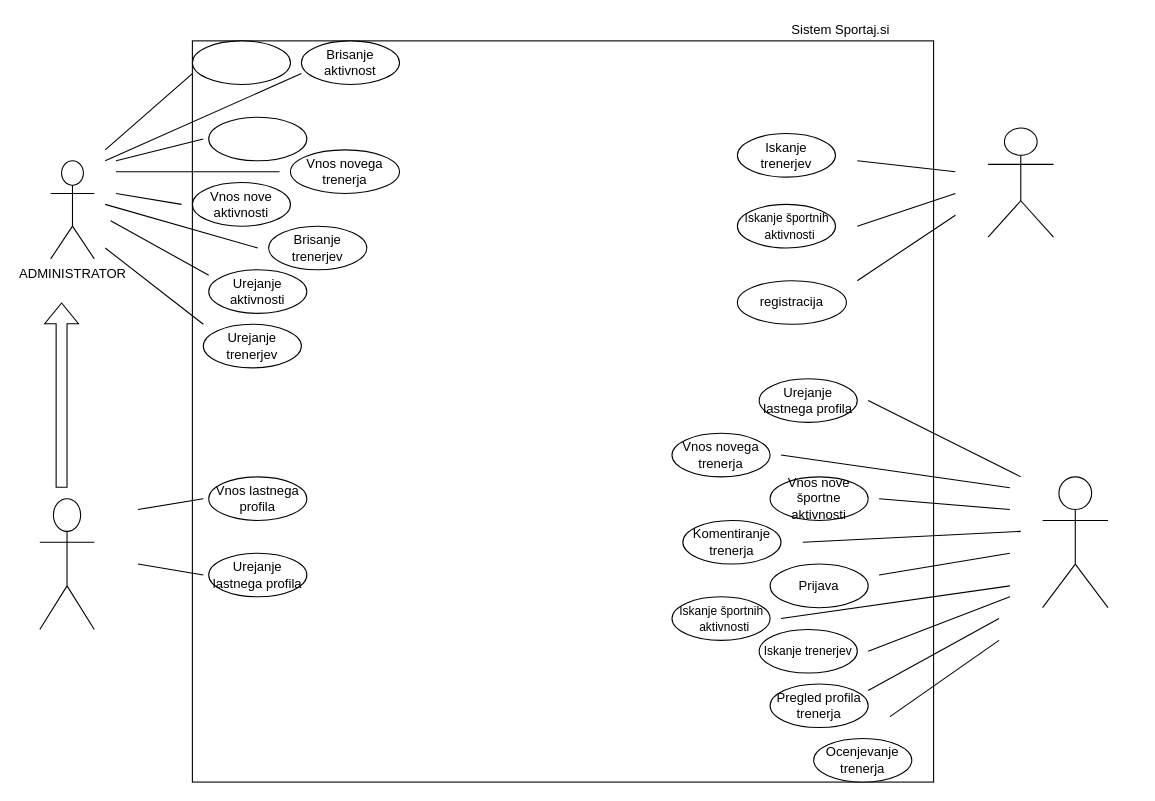
This 1155x801 diagram has some shape labels left out. The shapes that lost their labels are listed below. From the top down, each one's centre as x and y in pixels, then its label:
At point 240,62: "Urejanje komentarjov".
At point 257,138: "Brisanje komentarjev".
At point 1020,182: "Obiskovalec".
At point 1074,542: "Registriran uporabnik".
At point 66,563: "Trener".
